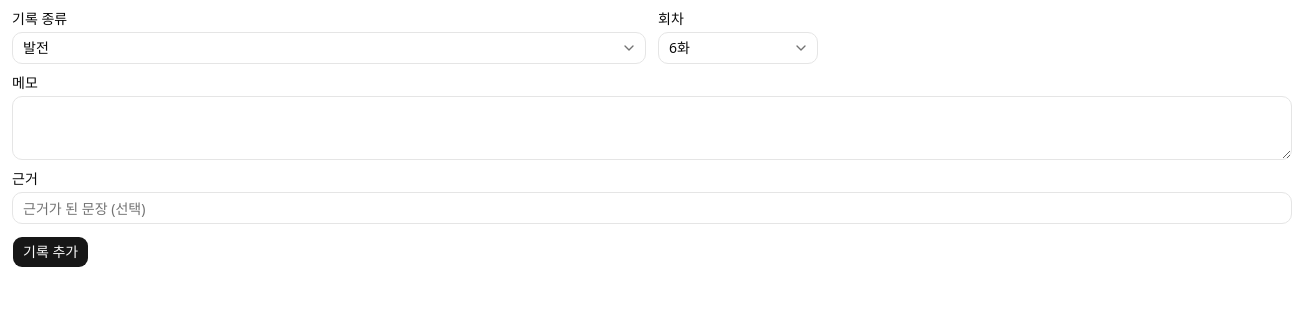
Scenario: ThreadEventForm › shows the service error inline when the record is refused
The image size is (1304, 316).
Click the button "기록 추가": (51,252) x1=12 y1=236 x2=89 y2=268
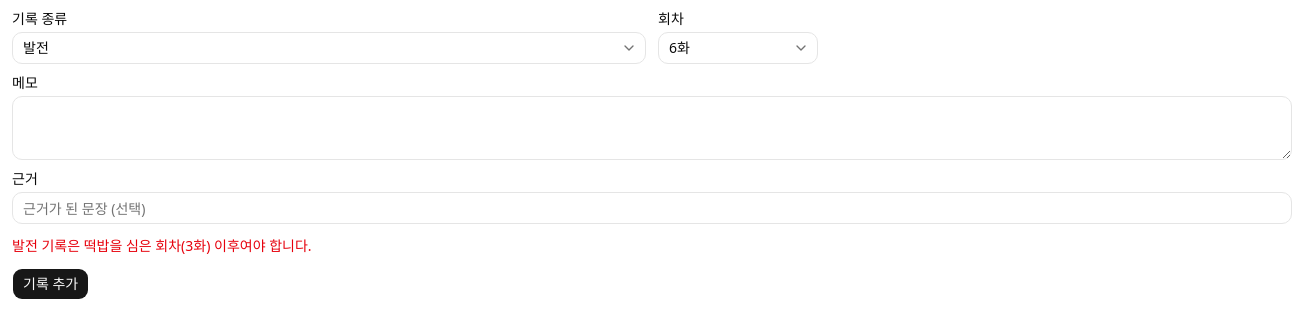
Expected: the message reads "발전 기록은 떡밥을 심은 회차(3화) 이후여야 합니다.", x1=12 y1=236 x2=312 y2=255
